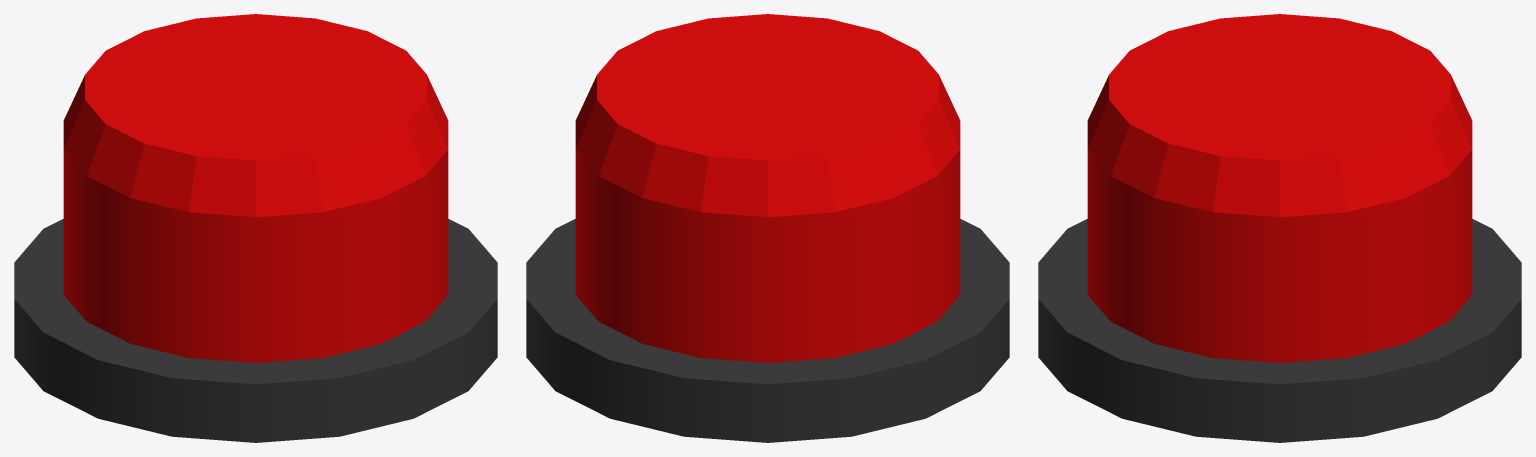
Rendered from AlarmNew.FBX.
3 renders of one model, left to right at view 1: azimuth 30°, elevation 25°; view 2: azimuth 150°, elevation 25°; view 3: azimuth 270°, elevation 25°, orthographic.
Visible parts, largest first — view 1: Alarm; view 2: Alarm; view 3: Alarm.
Part boxes in pixels (box(x1,y1,x2,y2)): Alarm: box(14, 14, 497, 442); Alarm: box(526, 14, 1009, 442); Alarm: box(1038, 14, 1521, 442).
Bounding box in the file's own units: 0.2061 × 0.1167 × 0.2029.
